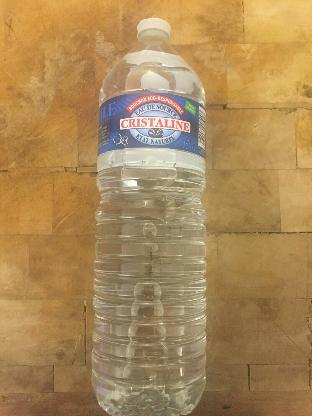Plastic Bottle: (86, 10, 216, 416)
